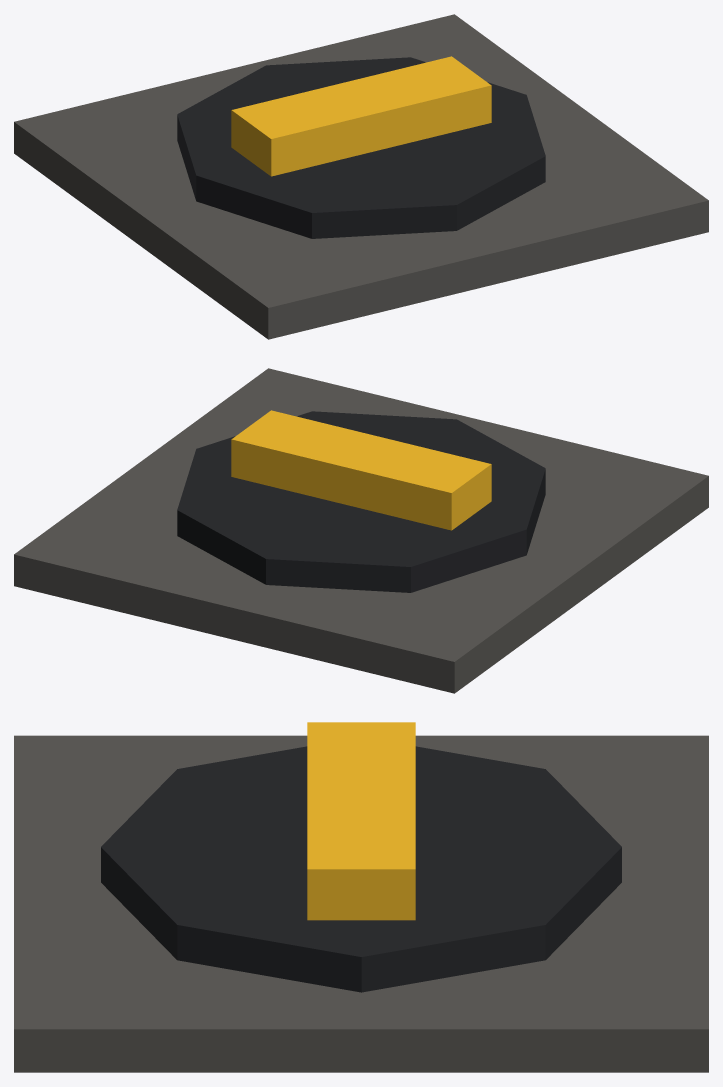
The model's file is industrial_hatch.glb.
3 renders of one model, top to bottom at view 1: azimuth 30°, elevation 25°; view 2: azimuth 150°, elevation 25°; view 3: azimuth 270°, elevation 25°, orthographic. The views are drawn at different scales.
Size of the model in its own units: 0.32 by 0.066 by 0.32.
